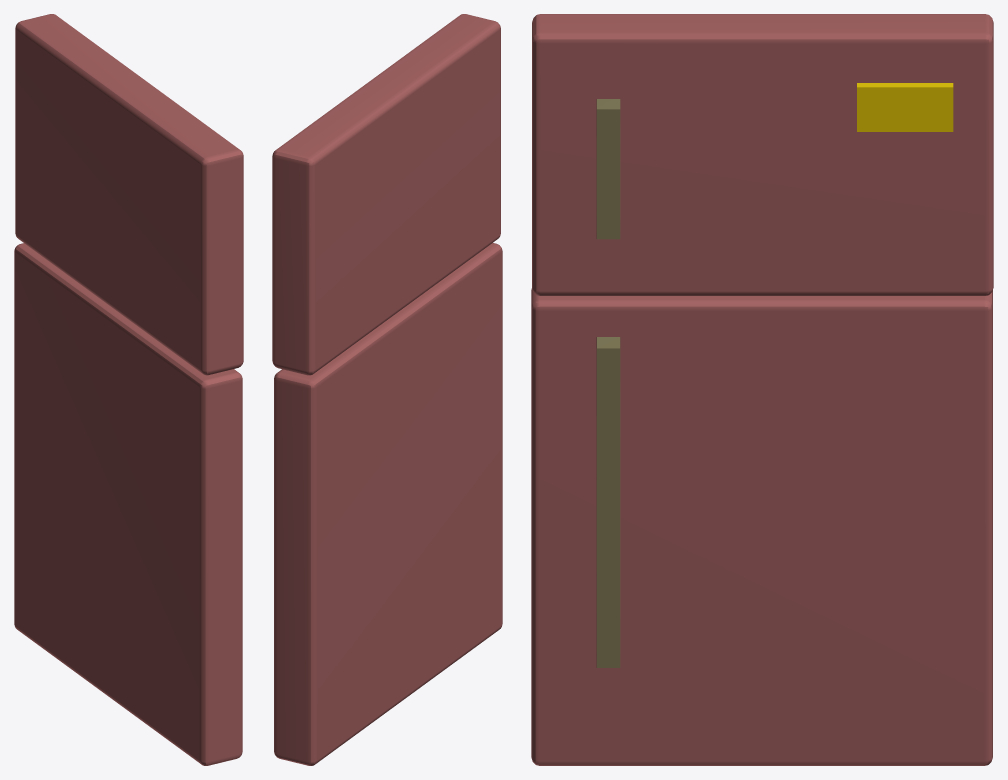
The model's file is fridgedoor.fbx.
3 views of the same model, side by side, from view 1: azimuth 30°, elevation 25°; view 2: azimuth 150°, elevation 25°; view 3: azimuth 270°, elevation 25° (orthographic). The views are drawn at different scales.
Parts seen in each view (by area): view 1: pasted__pCube3; view 2: pasted__pCube3; view 3: pasted__pCube3.
Part boxes in pixels (box(x1,y1,x2,y2)): pasted__pCube3: box(14, 14, 243, 765); pasted__pCube3: box(272, 14, 502, 765); pasted__pCube3: box(531, 14, 993, 765).
Bounding box in the file's own units: 0.768 × 7.3 × 4.17.
